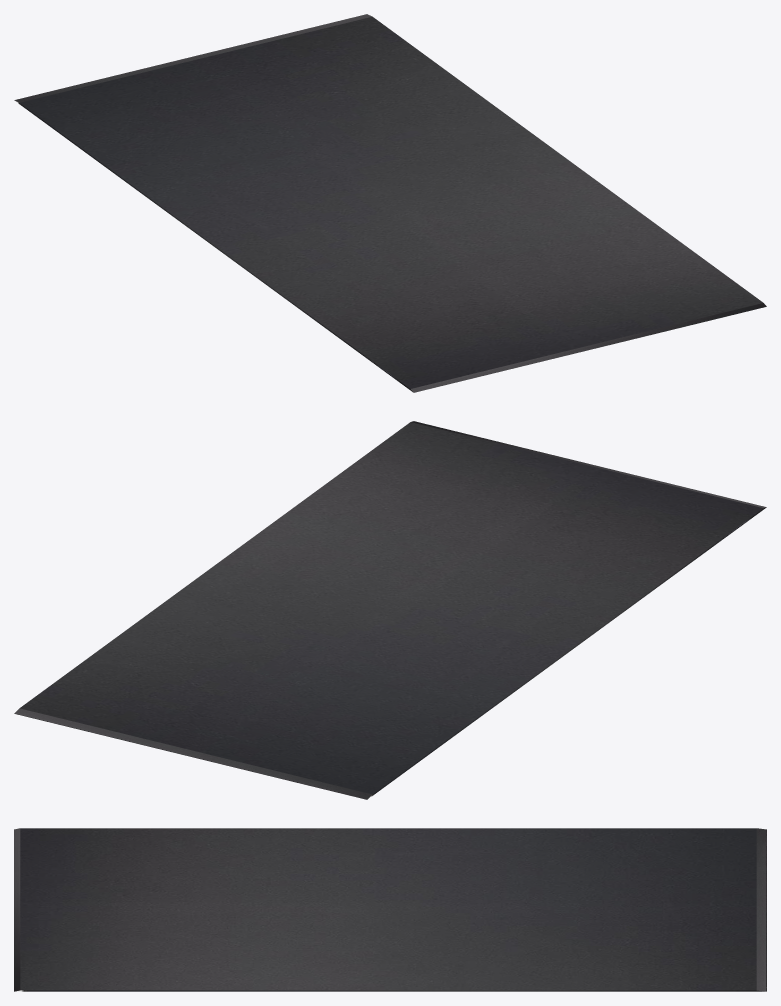
The model's file is mousepad.glb.
The picture shows the model from 3 angles, top to bottom: view 1: azimuth 30°, elevation 25°; view 2: azimuth 150°, elevation 25°; view 3: azimuth 270°, elevation 25°; orthographic projection. The views are drawn at different scales.
Parts seen in each view (by area): view 1: Object_2; view 2: Object_2; view 3: Object_2.
Part boxes in pixels (x1,y1,x2,y2): Object_2: (14, 14, 766, 392); Object_2: (14, 421, 766, 799); Object_2: (14, 828, 766, 991).
Size of the model in its own units: 2.05 by 0.00785 by 4.02.
1 material, 1 textured.
